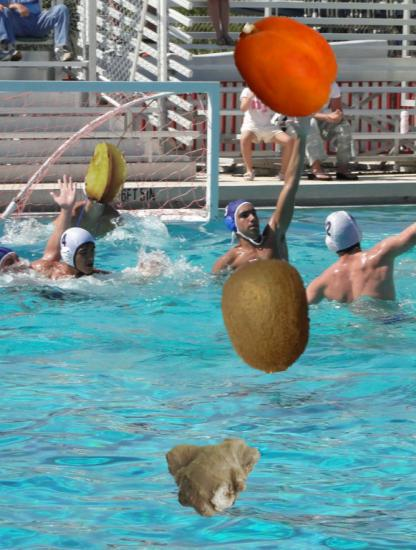Apricot: (231, 11, 341, 121)
Carambula: (76, 143, 138, 205)
Ginger: (164, 420, 259, 515)
Kiwi: (209, 258, 324, 373)
